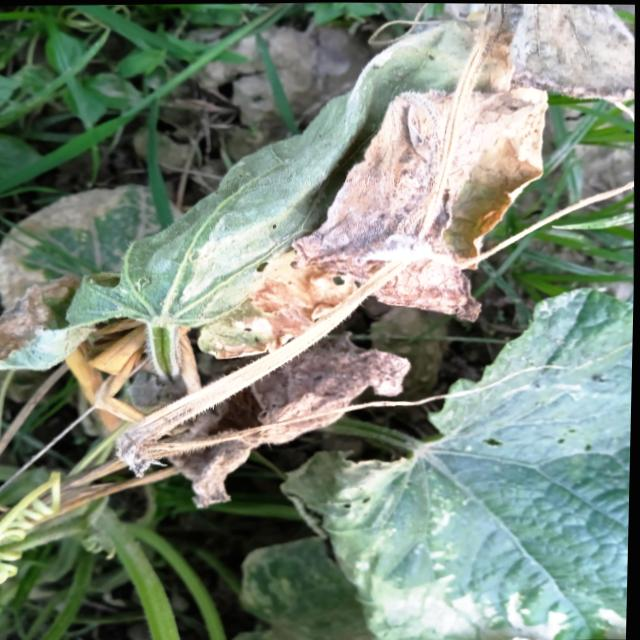Bacterial-Wilt: (285, 81, 550, 322), (152, 331, 412, 510), (468, 3, 634, 108)
